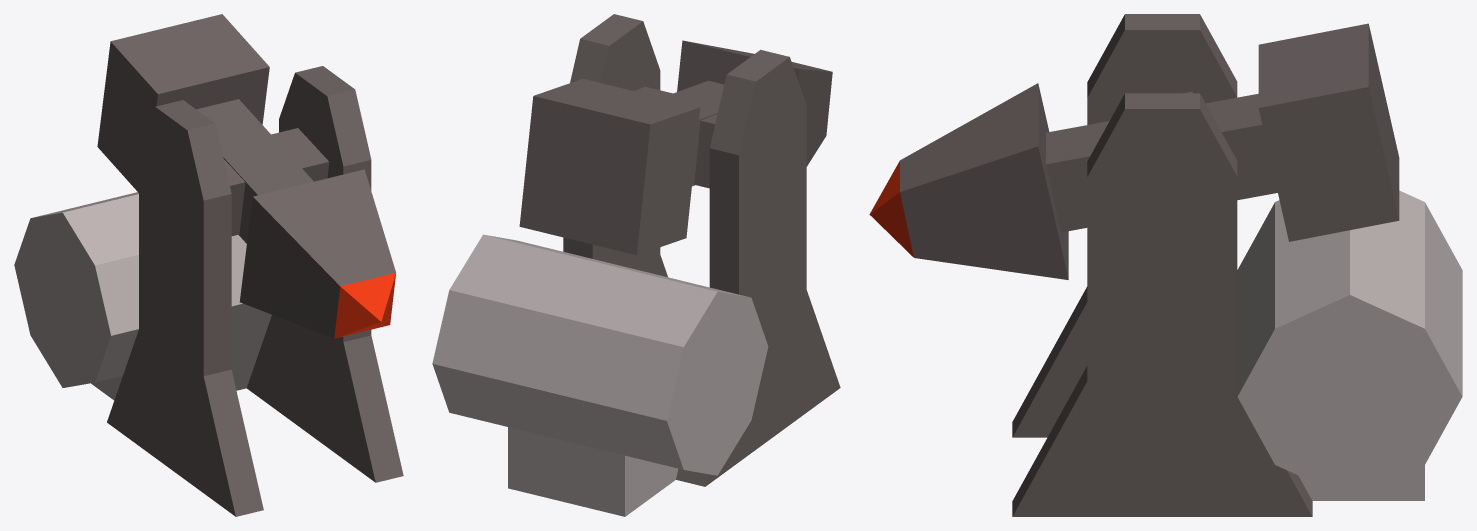
Rendered from obj_strange_machine_2_0.obj.
The picture shows the model from 3 angles, left to right: view 1: azimuth 30°, elevation 25°; view 2: azimuth 150°, elevation 25°; view 3: azimuth 270°, elevation 25°; orthographic projection. The views are drawn at different scales.
Bounding box in the file's own units: 1 × 1.52 × 1.98.
